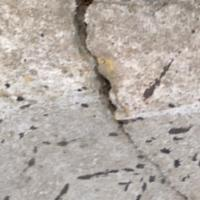crack: (54, 0, 142, 160)
